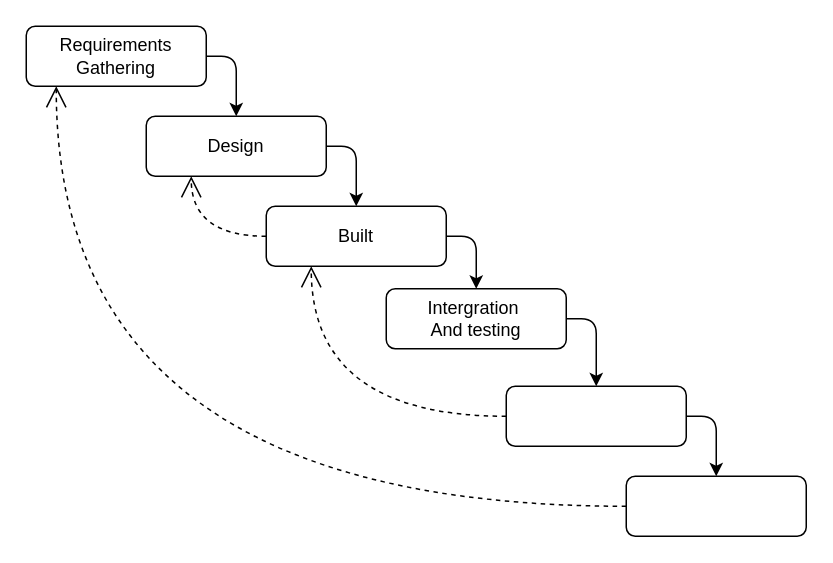
The diagram is 833 pixels wide and 563 high, and some of its shapes have lost their labels. Each missing label, with the centre of its shape:
Deployment: the point at 595,415
Maintainance: the point at 715,505
